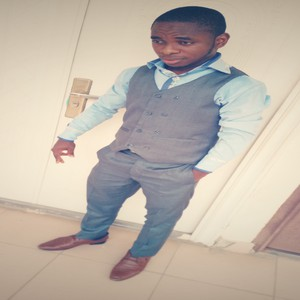Fulokoja_male_student: (102, 8, 228, 274)
